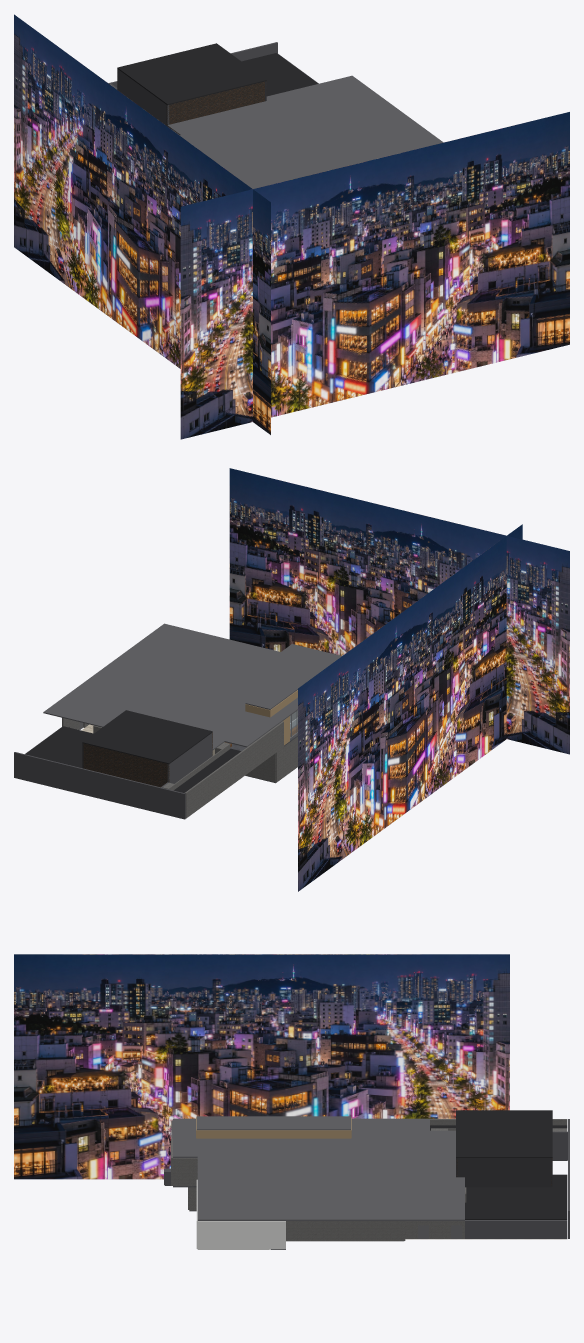
File: cinema.glb
The picture shows the model from 3 angles, top to bottom: view 1: azimuth 30°, elevation 25°; view 2: azimuth 150°, elevation 25°; view 3: azimuth 270°, elevation 25°; orthographic projection. The views are drawn at different scales.
Visible parts, largest first — view 1: BG_city_s, BG_city, STATIC_ceiling_gray_c0f0, STATIC_ceiling_dark_c0f0, STATIC_wall_theater_c1f0, STATIC_wall_charcoal_c1f0; view 2: BG_city_s, BG_city, STATIC_ceiling_gray_c0f0, STATIC_ceiling_dark_c0f0, STATIC_wall_charcoal_c1f0, STATIC_wall_stone_c1f0, STATIC_wall_theater_c1f0, STATIC_wall_stone_c0f0; view 3: BG_city, STATIC_ceiling_gray_c0f0, STATIC_ceiling_dark_c0f0, STATIC_wall_stone_c1f0, STATIC_wall_dark_c1f0, STATIC_wall_white_c1f0, STATIC_wall_charcoal_c1f0, STATIC_bronze_c0f0.
Boxes of the visible parts, left/top/right/bottom form: BG_city_s: left=180, top=112, right=569, bottom=439; BG_city: left=14, top=14, right=270, bottom=434; STATIC_ceiling_gray_c0f0: left=167, top=75, right=443, bottom=188; STATIC_ceiling_dark_c0f0: left=117, top=43, right=318, bottom=105; STATIC_wall_theater_c1f0: left=117, top=72, right=266, bottom=128; STATIC_wall_charcoal_c1f0: left=108, top=42, right=318, bottom=126; BG_city_s: left=229, top=468, right=569, bottom=754; BG_city: left=298, top=524, right=522, bottom=891; STATIC_ceiling_gray_c0f0: left=43, top=623, right=341, bottom=750; STATIC_ceiling_dark_c0f0: left=25, top=710, right=241, bottom=792; STATIC_wall_charcoal_c1f0: left=14, top=727, right=212, bottom=819; STATIC_wall_stone_c1f0: left=62, top=718, right=283, bottom=818; STATIC_wall_theater_c1f0: left=82, top=732, right=212, bottom=787; STATIC_wall_stone_c0f0: left=93, top=710, right=297, bottom=790; BG_city: left=14, top=954, right=509, bottom=1179; STATIC_ceiling_gray_c0f0: left=173, top=1116, right=464, bottom=1220; STATIC_ceiling_dark_c0f0: left=430, top=1110, right=567, bottom=1219; STATIC_wall_stone_c1f0: left=171, top=1119, right=567, bottom=1241; STATIC_wall_dark_c1f0: left=456, top=1158, right=552, bottom=1187; STATIC_wall_white_c1f0: left=196, top=1179, right=285, bottom=1249; STATIC_wall_charcoal_c1f0: left=465, top=1119, right=569, bottom=1238; STATIC_bronze_c0f0: left=196, top=1117, right=351, bottom=1138.
Size of the model in its own units: 70 by 40 by 89.69.
63 materials, 31 textured.
